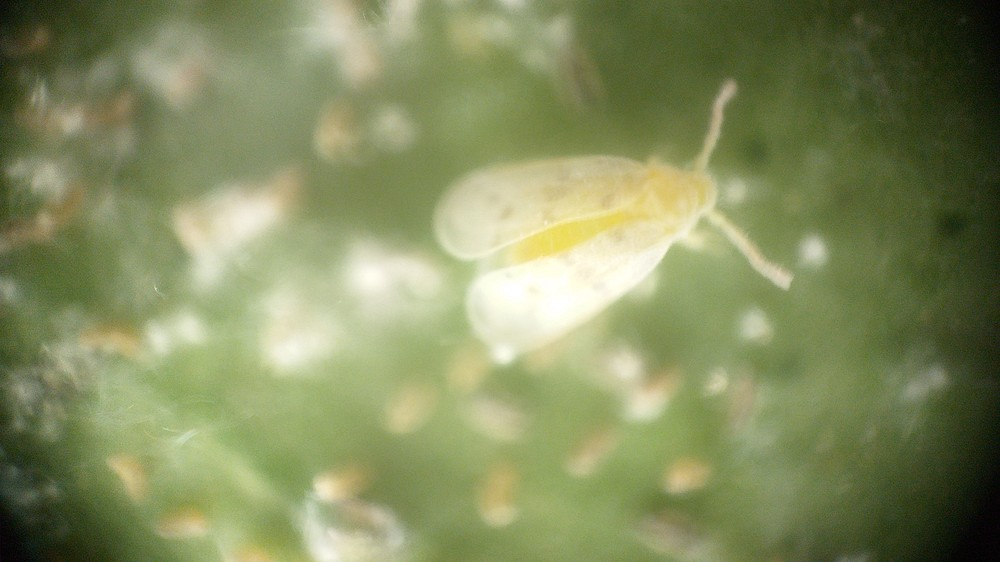Mosca Blanca: (422, 72, 817, 379)
